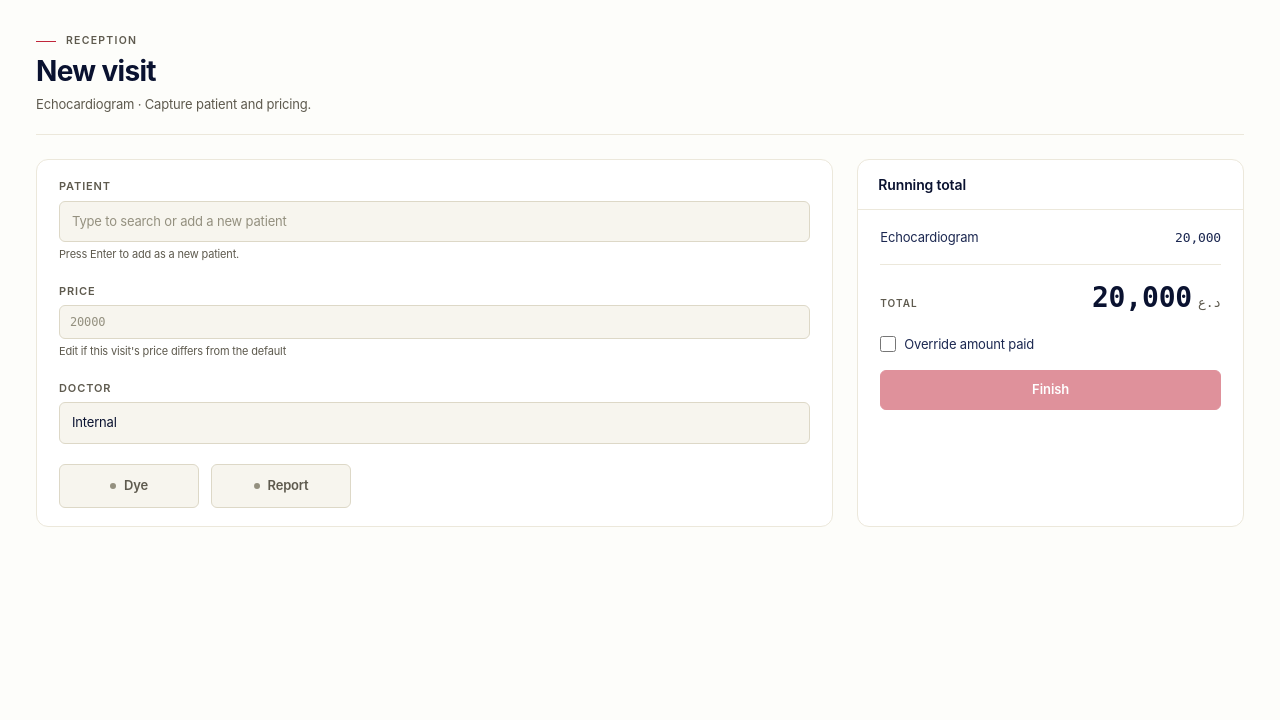
Test case: NewVisitTabbedPage › editing the price override updates the running total
This screenshot has width=1280, height=720.
Expected: the text with test id "running-total" reads "20,000", x1=1092 y1=280 x2=1192 y2=314
In the number field with test id "price-override": (435, 322) x1=59 y1=305 x2=810 y2=339, type "5000"
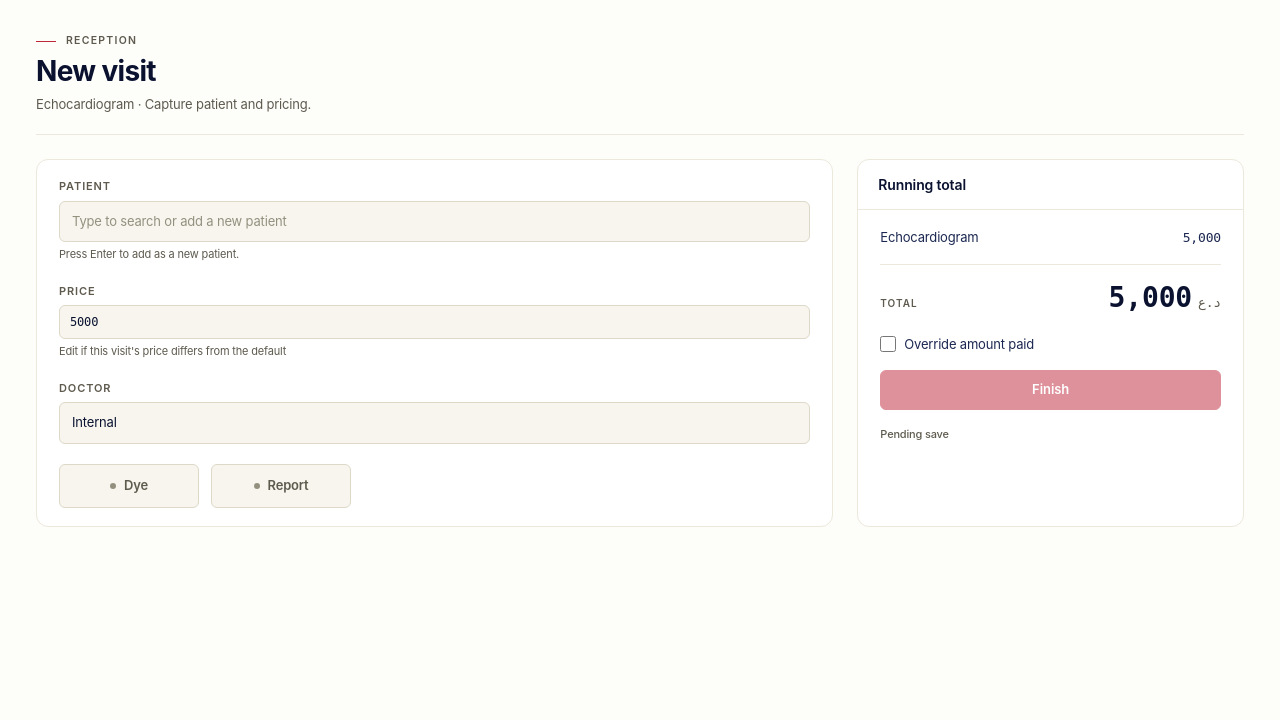
Now the text with test id "running-total" reads "5,000", box x1=1109 y1=280 x2=1192 y2=314
